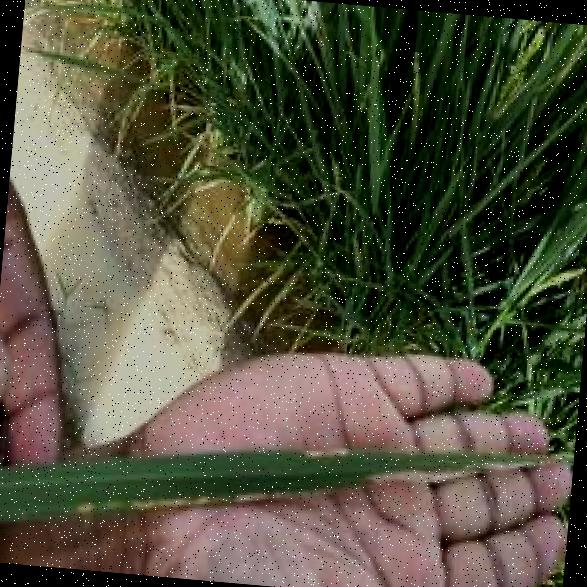Bacteria_Leaf_Blight: (61, 455, 369, 539), (289, 428, 397, 470)
